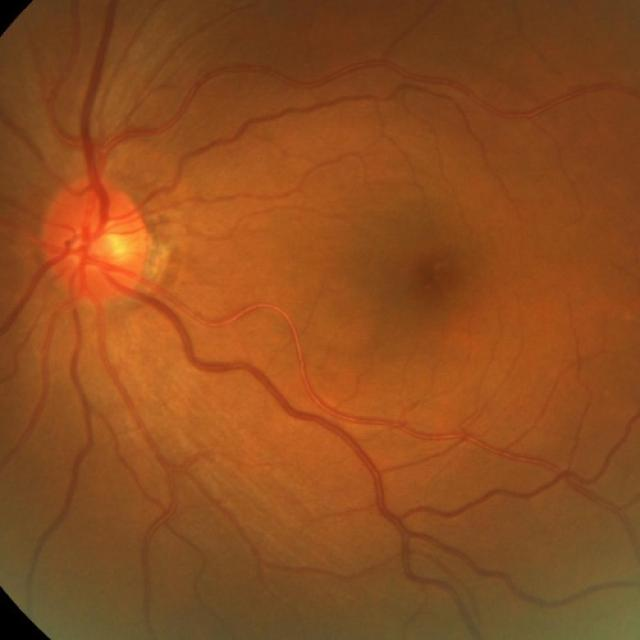OC: (104, 232, 130, 260)
OD: (40, 175, 152, 302)
